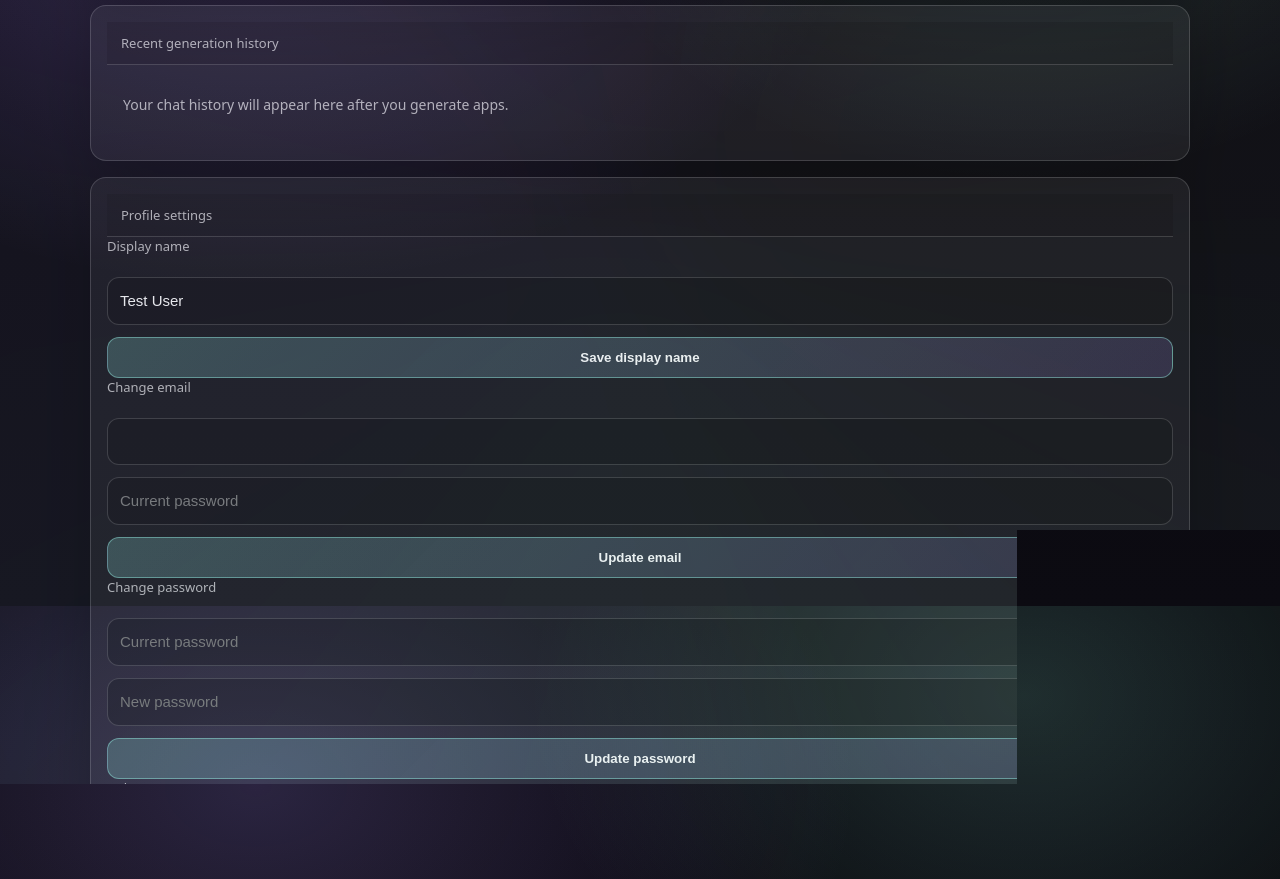
Test case: DashboardPage › handles email, password, and account deletion flows
(page scrolled)
Type "new@example.com" into the field labelled "Change email" at x=640, y=442, box [107,418,1173,466]
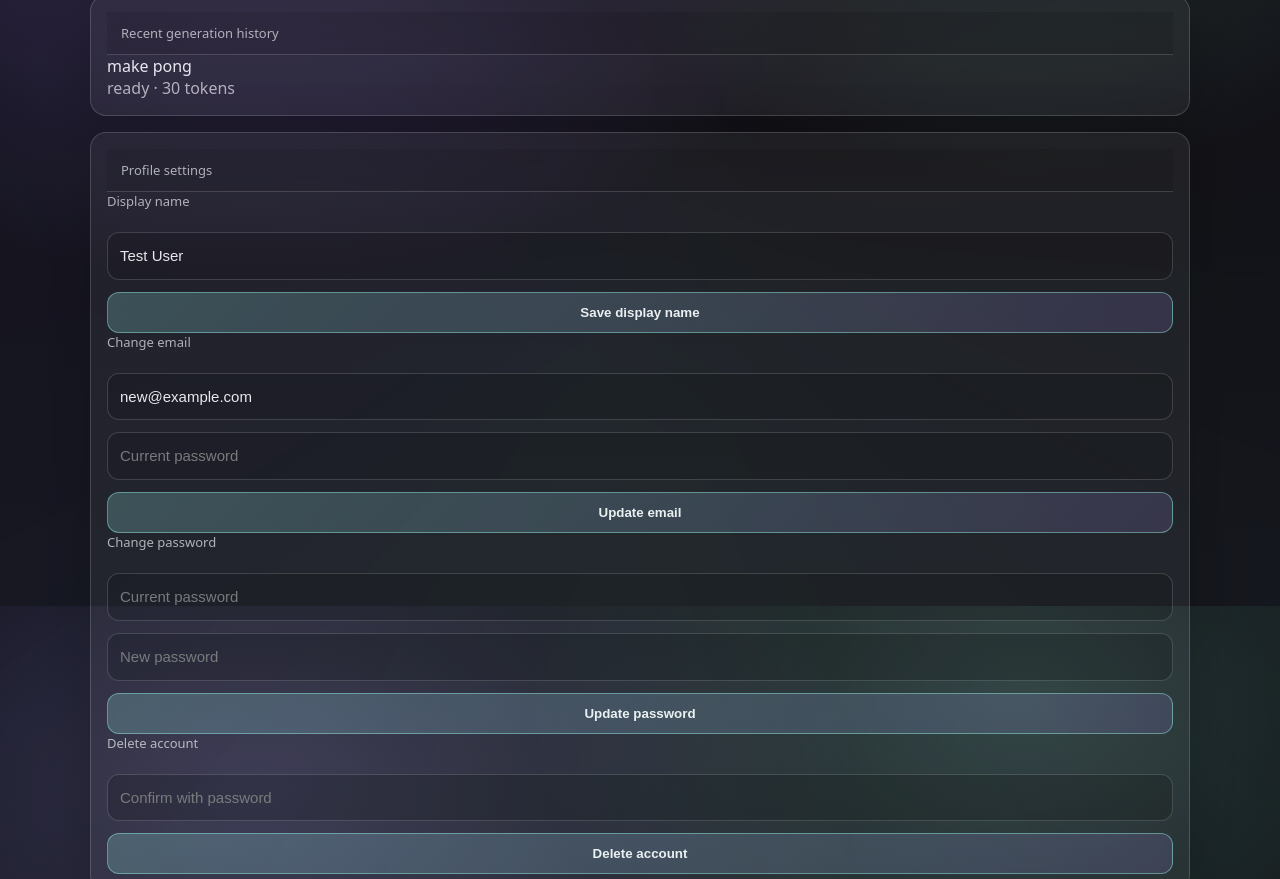
Type "secret123" into the password field with placeholder "Current password" below "Change email" at x=640, y=456, box [107,432,1173,480]
Click the button "Update email" at x=640, y=513, box [107,492,1173,533]
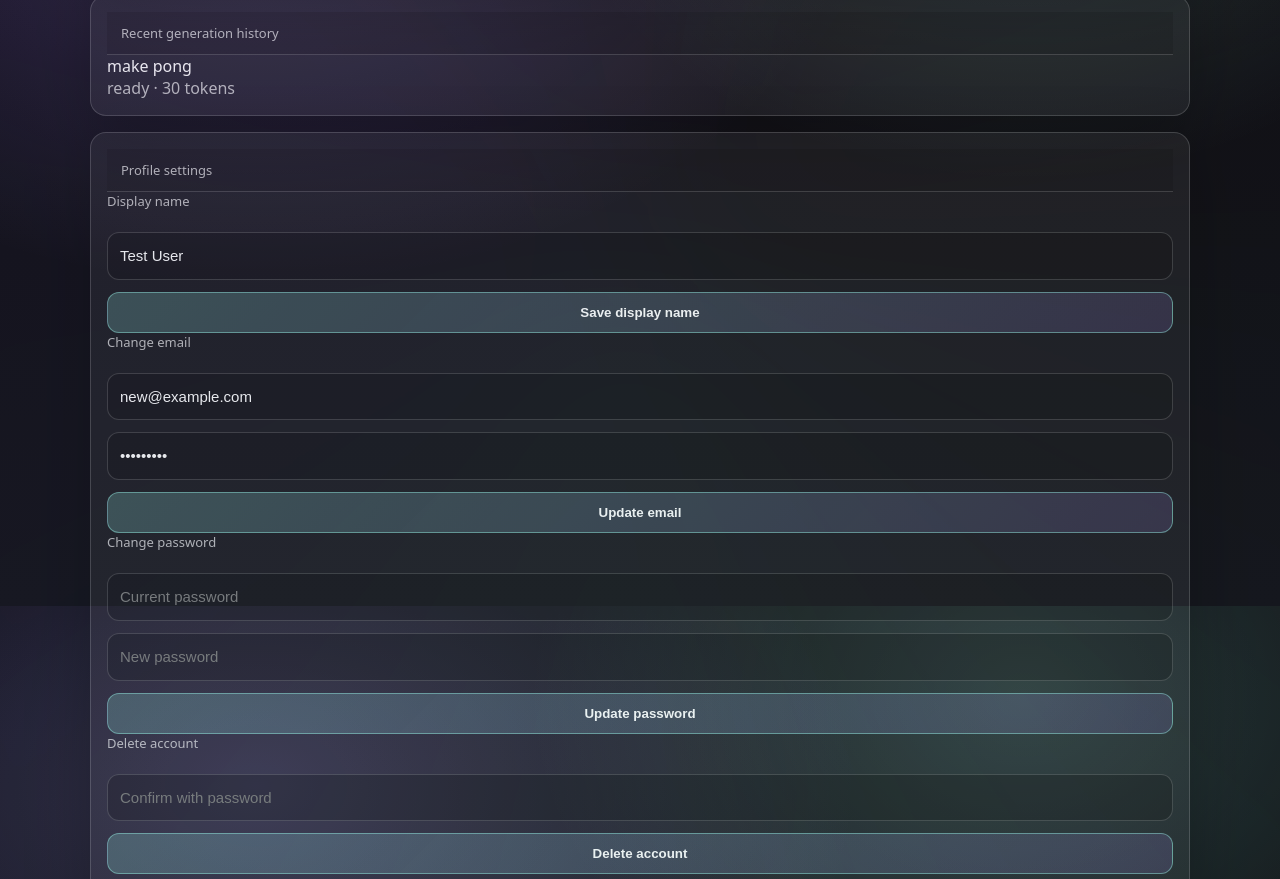
Type "secret123" into the password field with placeholder "Current password" at x=640, y=597, box [107,573,1173,621]
Type "new-pass" into the password field with placeholder "New password" at x=640, y=657, box [107,633,1173,681]
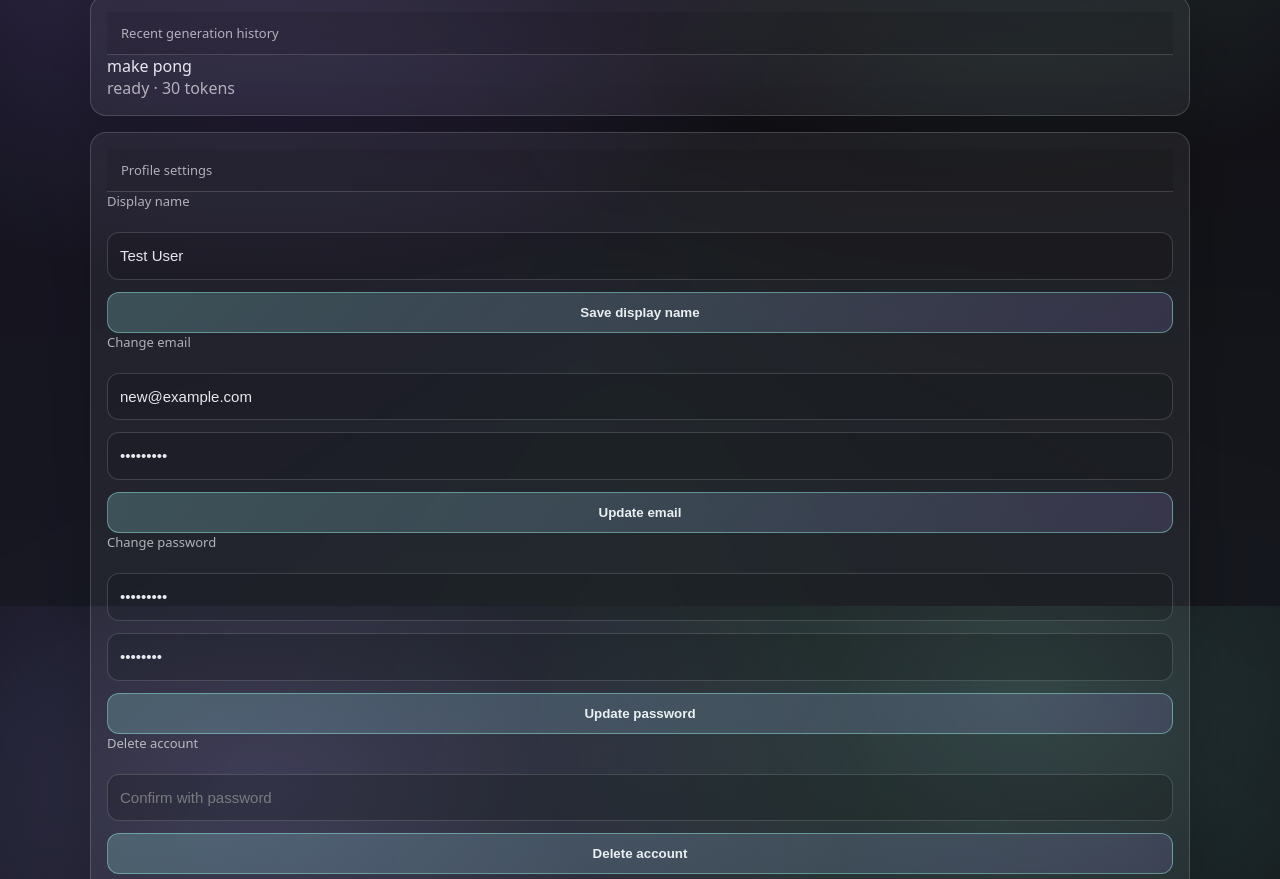
Click the button "Update password" at x=640, y=713, box [107,693,1173,734]
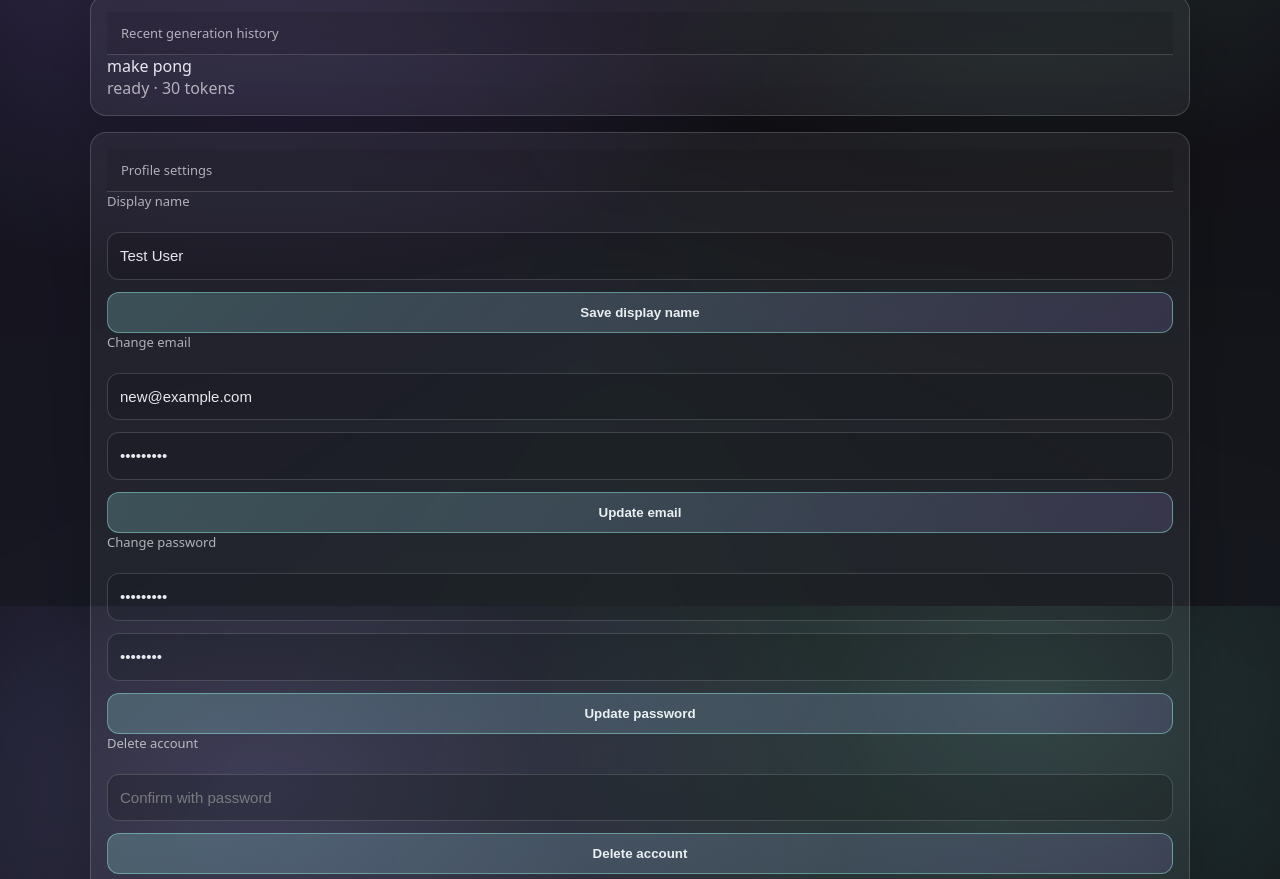
Type "secret123" into the password field labelled "Delete account" at x=640, y=798, box [107,774,1173,822]
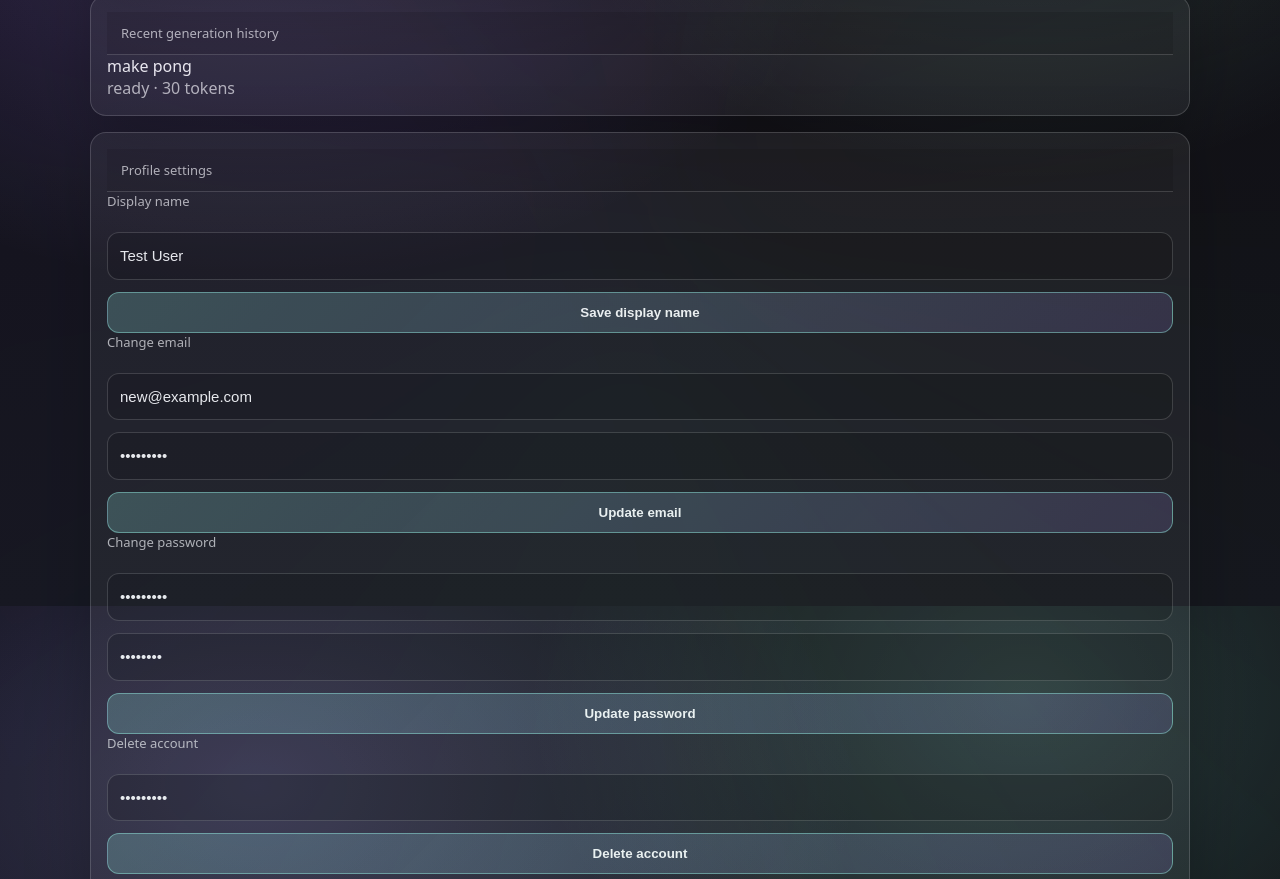
Click the button "Delete account" at x=640, y=854, box [107,833,1173,874]
(page scrolled)
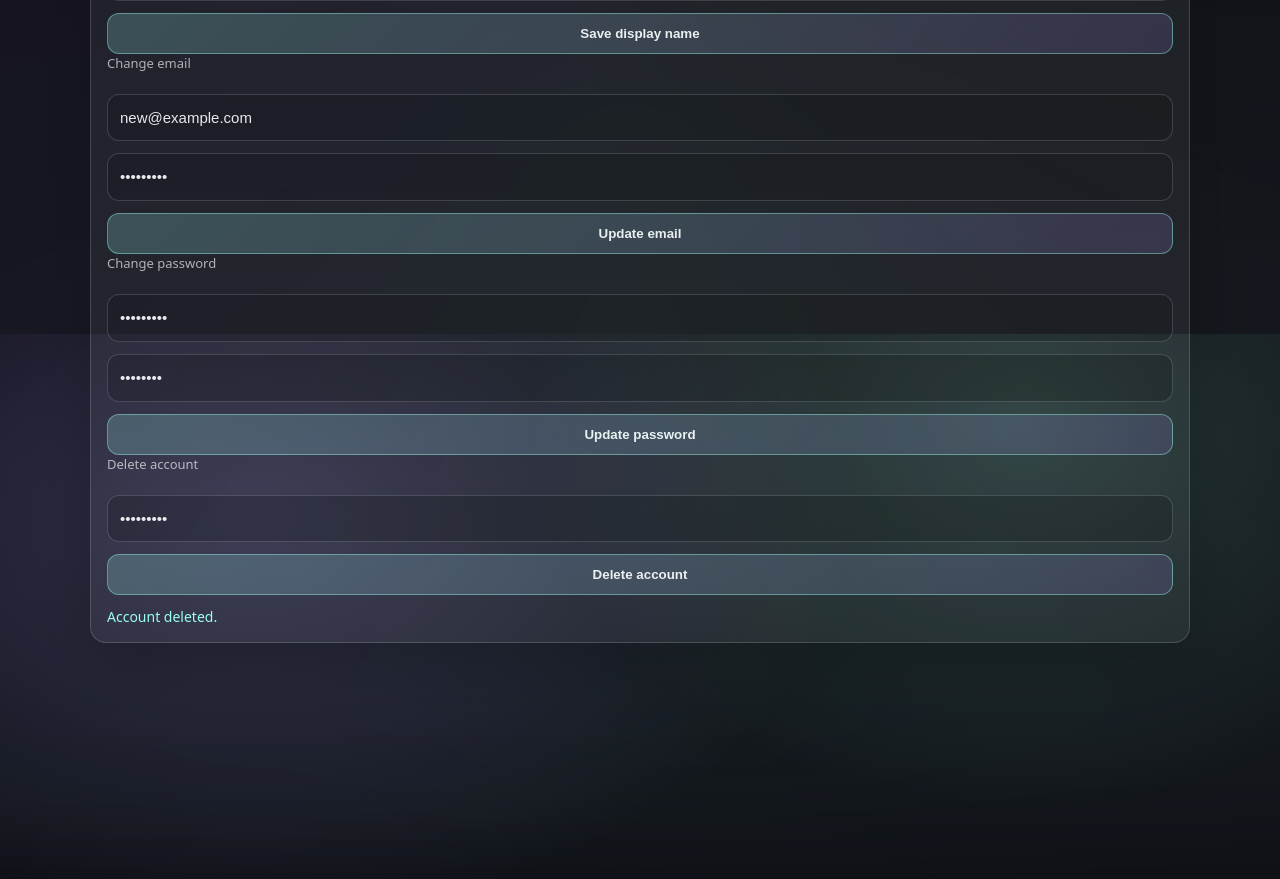
Result: the text "Account deleted." is shown at [107,607,217,626]
